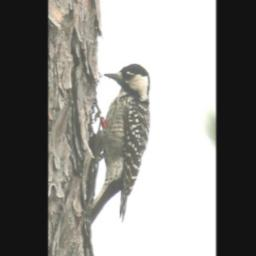Woodpecker: (86, 63, 150, 226)
